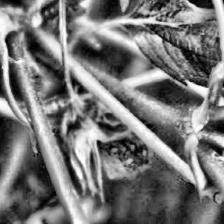Gray Mold: (60, 92, 152, 203)
